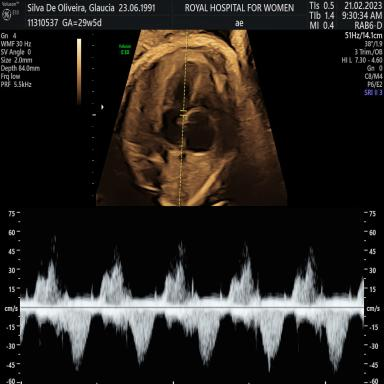Ultrasound-Waves: (24, 215, 362, 384)
